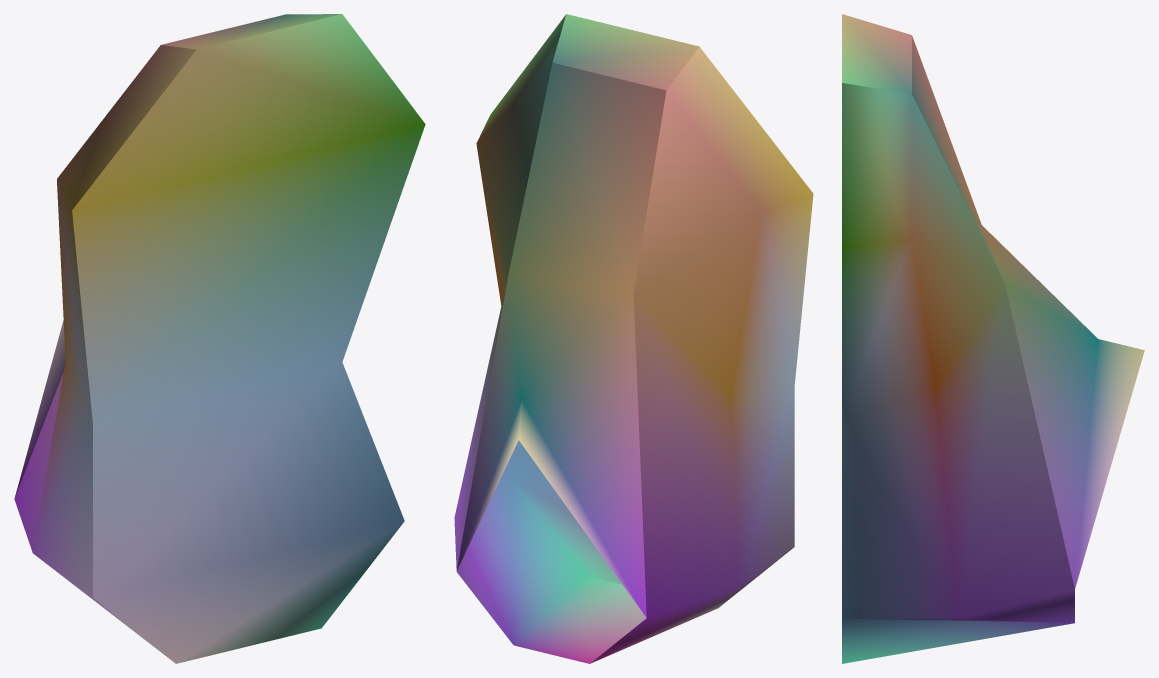
3 views of the same model, side by side, from view 1: azimuth 30°, elevation 25°; view 2: azimuth 150°, elevation 25°; view 3: azimuth 270°, elevation 25° (orthographic). The views are drawn at different scales.
Parts seen in each view (by area): view 1: part; view 2: part; view 3: part.
Part boxes in pixels (x1,y1,x2,y2): part: (14, 14, 425, 663); part: (454, 14, 813, 663); part: (842, 14, 1144, 663).
Bounding box in the file's own units: 17 × 28 × 13.
